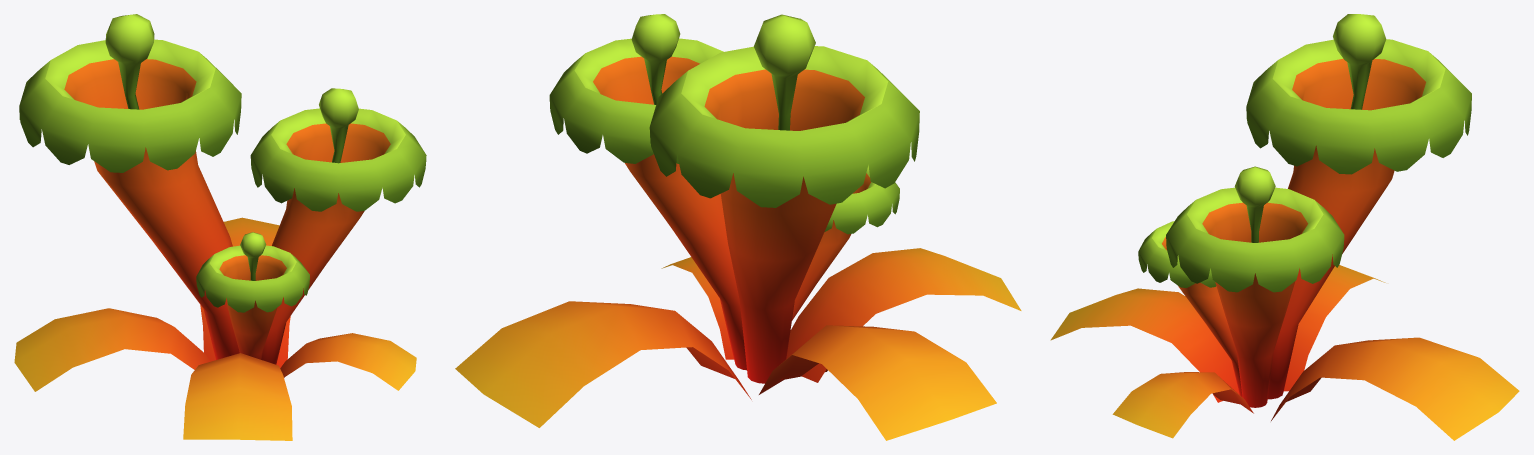
Rendered from anp_PlantFlower_9.fbx.
3 views of the same model, side by side, from view 1: azimuth 30°, elevation 25°; view 2: azimuth 150°, elevation 25°; view 3: azimuth 270°, elevation 25° (orthographic). The views are drawn at different scales.
Visible parts, largest first — view 1: pf9; view 2: pf9; view 3: pf9.
Boxes of the visible parts, x1,y1,x2,y2 form: pf9: [14, 14, 426, 440]; pf9: [455, 14, 1021, 440]; pf9: [1050, 14, 1519, 440].
Bounding box in the file's own units: 98.25 × 88.68 × 107.
